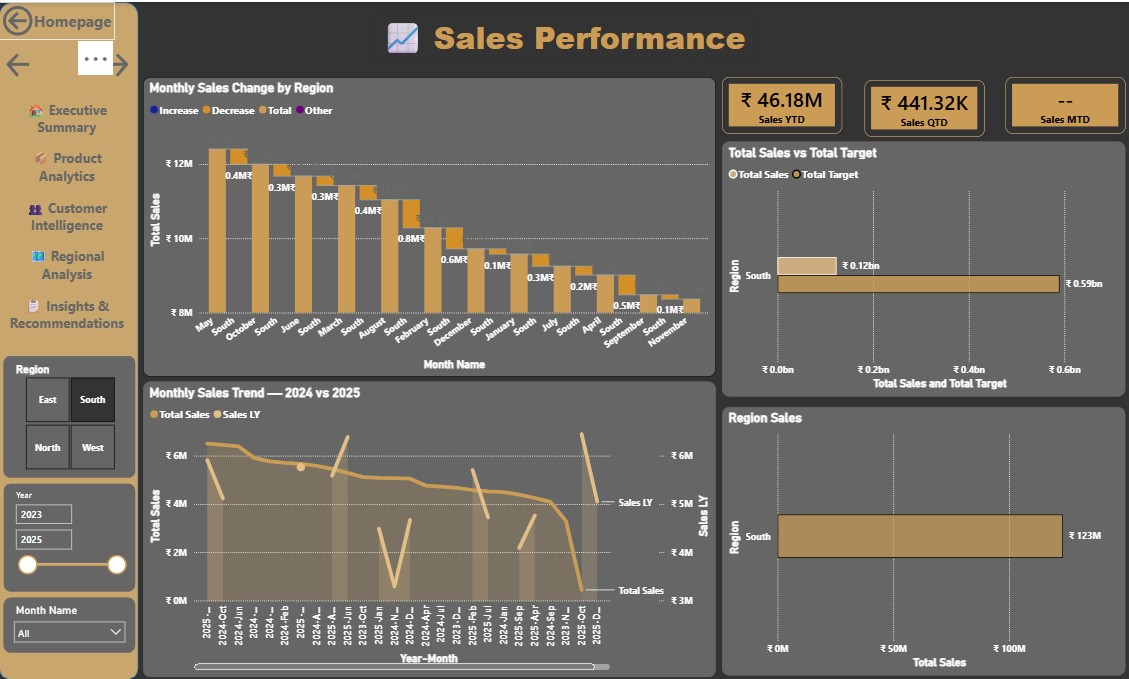

Layout of this report page (visuals, bound fields, positions):
{"tool":"powerbi","page":{"name":"📈 Sales Performance","canvas":[1500,900],"ordinal":1},"visuals":[{"type":"shape","box":[0,0,184.9,900.7],"z":0},{"type":"lineChart","title":"Monthly Sales Trend — 2024 vs 2025","fields":{"Category":["Date Table.Year-Month"],"Y":["Measures (2).Total Sales"],"Y2":["Measures (2).Sales LY"]},"box":[190.9,503,759.5,391.7],"z":1000},{"type":"clusteredBarChart","title":"Region Sales","fields":{"Category":["Ecommerce_Sales_Data_2024_2025.Region"],"Y":["Measures (2).Total Sales"]},"box":[958.3,536.8,534.8,355.9],"z":2000},{"type":"clusteredBarChart","title":"Total Sales vs Total Target","fields":{"Category":["Ecommerce_Sales_Data_2024_2025.Region"],"Y":["Measures (2).Total Sales","Measures (2).Total Target"]},"box":[958.3,184.9,534.8,338],"z":3000},{"type":"slicer","fields":{"Values":["Ecommerce_Sales_Data_2024_2025.Region"]},"box":[6,469.2,175,161],"z":4000},{"type":"slicer","fields":{"Values":["Date Table.Year"]},"box":[6,638.2,175,143.2],"z":5000},{"type":"slicer","fields":{"Values":["Date Table.Month Name"]},"box":[6,789.3,175,73.6],"z":6000},{"type":"textbox","title":"📈 Sales Performance","box":[495.1,17.9,507,63.6],"z":7000},{"type":"cardVisual","fields":{"Data":["Measures (2).Sales YTD"]},"box":[958.3,99.4,159.1,75.6],"z":8000},{"type":"cardVisual","fields":{"Data":["Measures (2).Sales QTD"]},"box":[1147.2,103.4,159.1,75.6],"z":9000},{"type":"cardVisual","fields":{"Data":["Measures (2).Sales MTD"]},"box":[1334.1,99.4,159.1,75.6],"z":10000},{"type":"waterfallChart","title":"Monthly Sales Change by Region","fields":{"Category":["Date Table.Month Name"],"Y":["Measures (2).Total Sales"],"Breakdown":["India Ecommerce Sales Data (2024 - 2025).Region"]},"box":[190.9,99.4,759.5,397.7],"z":11000},{"type":"pageNavigator","box":[0,121.3,180.9,328.1],"z":12000},{"type":"actionButton","box":[6,63.6,55.7,40],"z":13000},{"type":"actionButton","box":[135.2,63.6,55.7,40],"z":14000},{"type":"actionButton","box":[0,0,153.1,49.7],"z":15000}]}

Visuals, with their boxes on the page's 1500x900 design canvas (x1, y1, x2, y2). These are canvas units, not pixel positions in the 1129x679 screenshot, which may show the page scaled, cropped or inside an application window:
shape: (x1=0, y1=0, x2=185, y2=901)
"Monthly Sales Trend — 2024 vs 2025" lineChart: (x1=191, y1=503, x2=950, y2=895)
"Region Sales" clusteredBarChart: (x1=958, y1=537, x2=1493, y2=893)
"Total Sales vs Total Target" clusteredBarChart: (x1=958, y1=185, x2=1493, y2=523)
slicer - Ecommerce_Sales_Data_2024_2025.Region: (x1=6, y1=469, x2=181, y2=630)
slicer - Date Table.Year: (x1=6, y1=638, x2=181, y2=781)
slicer - Date Table.Month Name: (x1=6, y1=789, x2=181, y2=863)
"📈 Sales Performance" textbox: (x1=495, y1=18, x2=1002, y2=82)
cardVisual - Measures (2).Sales YTD: (x1=958, y1=99, x2=1117, y2=175)
cardVisual - Measures (2).Sales QTD: (x1=1147, y1=103, x2=1306, y2=179)
cardVisual - Measures (2).Sales MTD: (x1=1334, y1=99, x2=1493, y2=175)
"Monthly Sales Change by Region" waterfallChart: (x1=191, y1=99, x2=950, y2=497)
pageNavigator: (x1=0, y1=121, x2=181, y2=449)
actionButton: (x1=6, y1=64, x2=62, y2=104)
actionButton: (x1=135, y1=64, x2=191, y2=104)
actionButton: (x1=0, y1=0, x2=153, y2=50)
